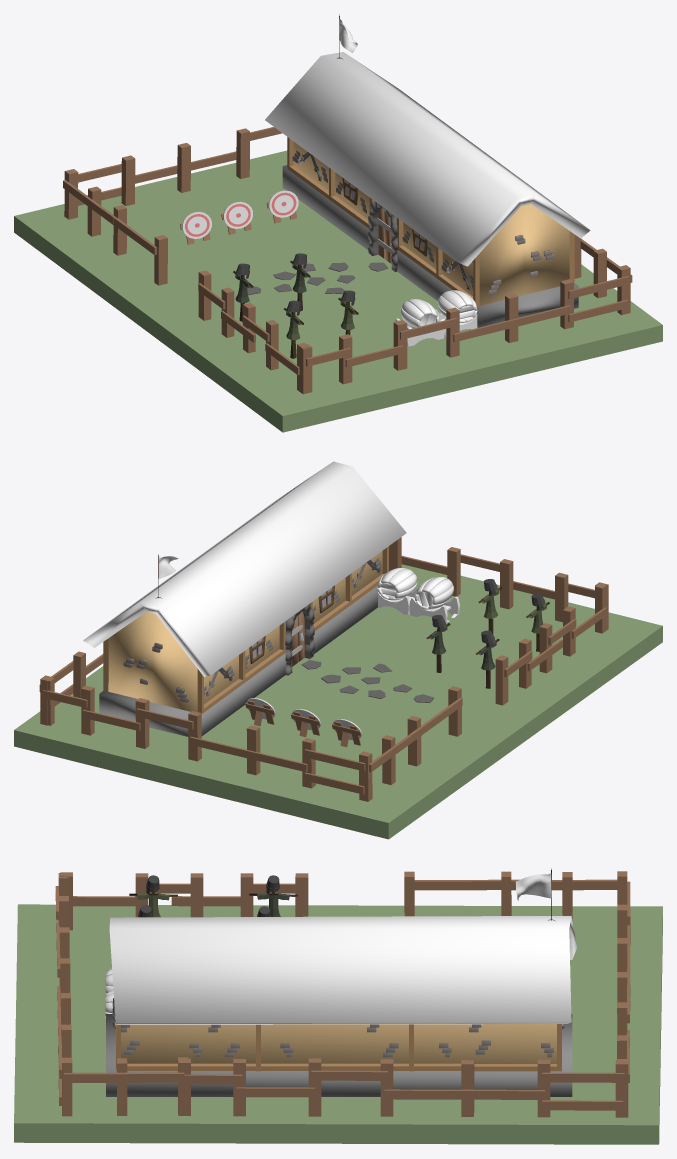
Rendered from BARRACKS.gltf.
3 renders of one model, top to bottom at view 1: azimuth 30°, elevation 25°; view 2: azimuth 150°, elevation 25°; view 3: azimuth 270°, elevation 25°, orthographic. The views are drawn at different scales.
Visible parts, largest first — view 1: Box003.001, Plane.003, Plane.001, Plane.002, GATE, Box324.001, Box147.001, Barrel.009, Barrel.008, Box147.003, Box008.001, Box195.001 (+5 smaller); view 2: Box003.001, Plane.003, Plane.001, Plane.002, GATE, Box324.001, Box147.003, Barrel.009, Barrel.008, Box120.001, Barrel Holder.005, Box182.005 (+12 smaller); view 3: Box003.001, Plane.003, Plane.001, Plane.002, Box147.002, Box135.001, Box135.002, Box153.002, Box154.002, Box149.001, Box148.002, Box324.008 (+24 smaller).
Boxes of the visible parts, left/top/right/bottom form: Box003.001: left=14, top=150, right=662, bottom=432; Plane.003: left=265, top=52, right=590, bottom=266; Plane.001: left=293, top=142, right=569, bottom=305; Plane.002: left=282, top=165, right=578, bottom=327; GATE: left=368, top=201, right=397, bottom=271; Box324.001: left=289, top=165, right=473, bottom=298; Box147.001: left=453, top=305, right=571, bottom=342; Barrel.009: left=437, top=290, right=477, bottom=322; Barrel.008: left=400, top=299, right=439, bottom=328; Box147.003: left=135, top=151, right=236, bottom=183; Box008.001: left=266, top=190, right=298, bottom=223; Box195.001: left=221, top=201, right=252, bottom=234; Box003.001: left=14, top=564, right=662, bottom=839; Plane.003: left=83, top=461, right=406, bottom=676; Plane.001: left=108, top=551, right=382, bottom=711; Plane.002: left=99, top=586, right=377, bottom=736; GATE: left=285, top=604, right=314, bottom=675; Box324.001: left=204, top=574, right=383, bottom=712; Box147.003: left=190, top=736, right=307, bottom=772; Barrel.009: left=377, top=568, right=417, bottom=600; Barrel.008: left=414, top=577, right=453, bottom=609; Box120.001: left=500, top=559, right=513, bottom=609; Barrel Holder.005: left=409, top=596, right=459, bottom=623; Box182.005: left=495, top=655, right=508, bottom=705; Box003.001: left=14, top=904, right=662, bottom=1144; Plane.003: left=109, top=915, right=577, bottom=1024; Plane.001: left=116, top=1024, right=556, bottom=1068; Plane.002: left=106, top=1014, right=572, bottom=1096; Box147.002: left=384, top=1089, right=544, bottom=1099; Box135.001: left=64, top=1072, right=184, bottom=1082; Box135.002: left=414, top=879, right=519, bottom=890; Box153.002: left=542, top=1072, right=624, bottom=1082; Box154.002: left=542, top=1100, right=623, bottom=1110; Box149.001: left=236, top=1087, right=314, bottom=1097; Box148.002: left=311, top=1070, right=387, bottom=1080; Box324.008: left=246, top=1063, right=362, bottom=1070.
Size of the model in its own units: 60.29 by 27.85 by 74.88.
